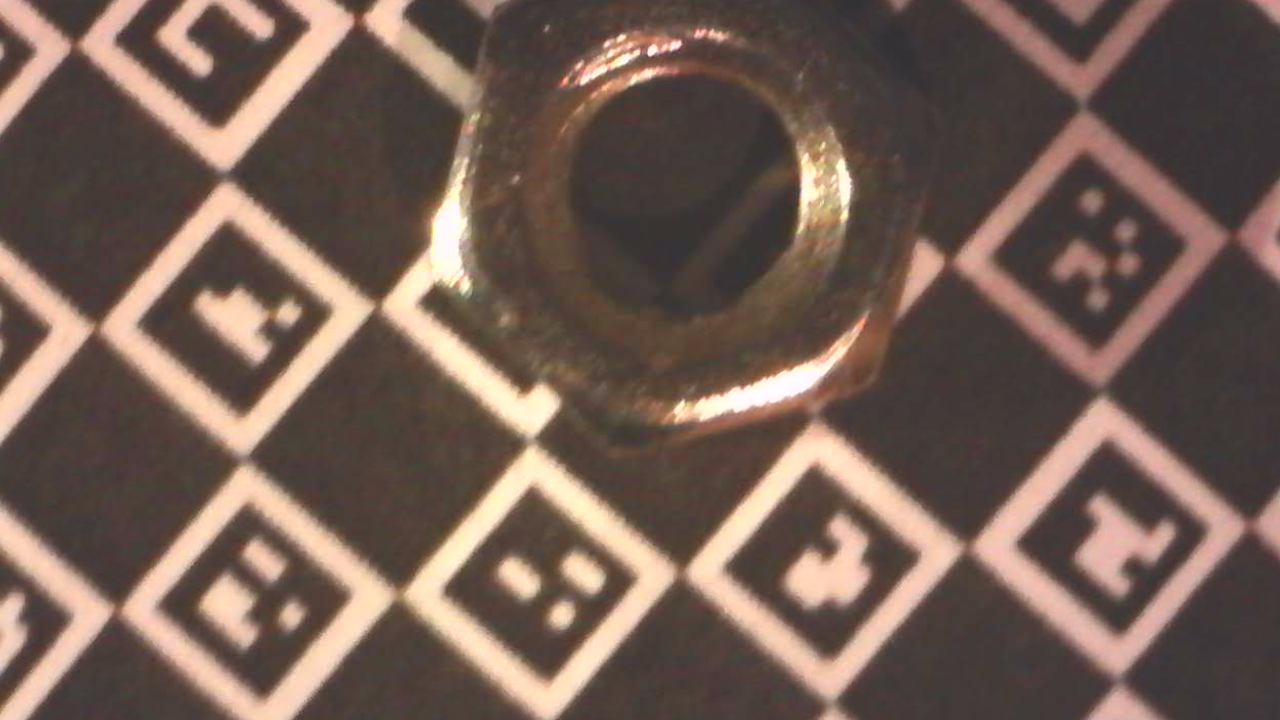Bolt: (422, 0, 938, 460)
